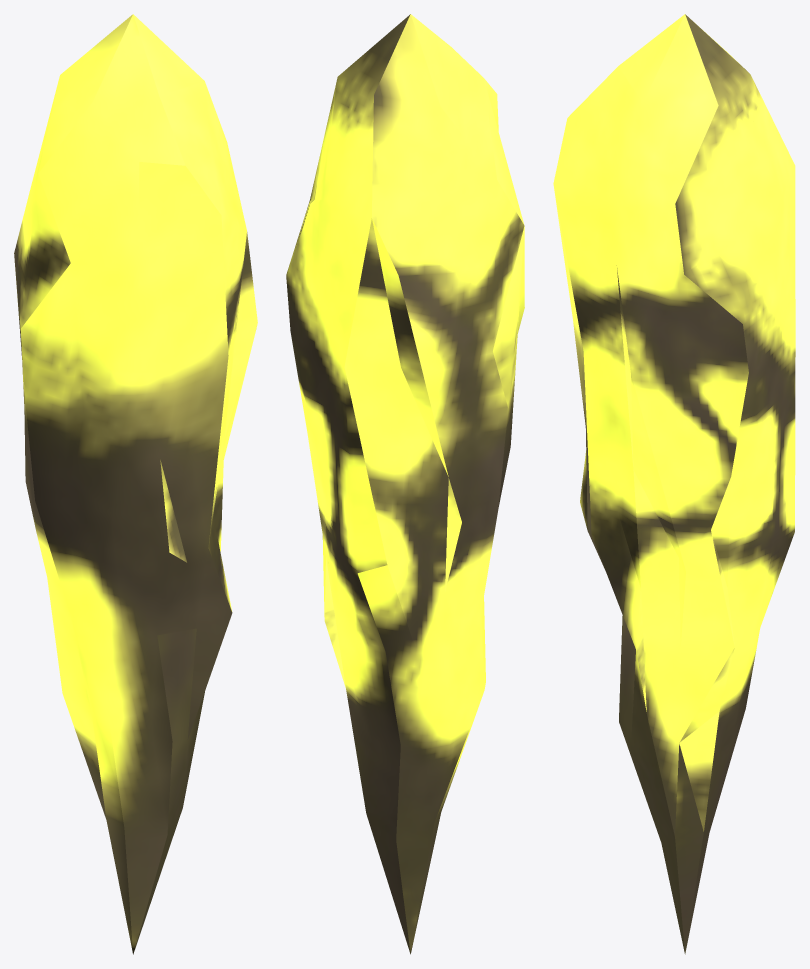
The model's file is TrossProjectile.fbx.
3 views of the same model, side by side, from view 1: azimuth 30°, elevation 25°; view 2: azimuth 150°, elevation 25°; view 3: azimuth 270°, elevation 25° (orthographic).
Parts seen in each view (by area): view 1: TrossProjectile; view 2: TrossProjectile; view 3: TrossProjectile.
Part boxes in pixels (x1,y1,x2,y2): TrossProjectile: (14,14,257,954); TrossProjectile: (286,14,524,954); TrossProjectile: (553,14,795,954).
Size of the model in its own units: 16 by 70.5 by 16.44.
